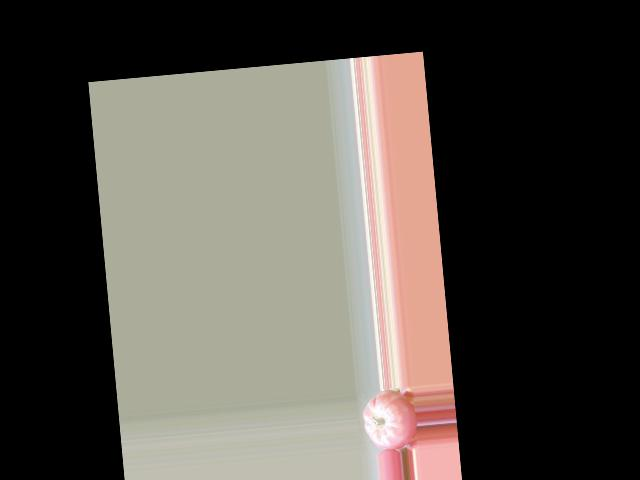tomato: (361, 387, 419, 451)
